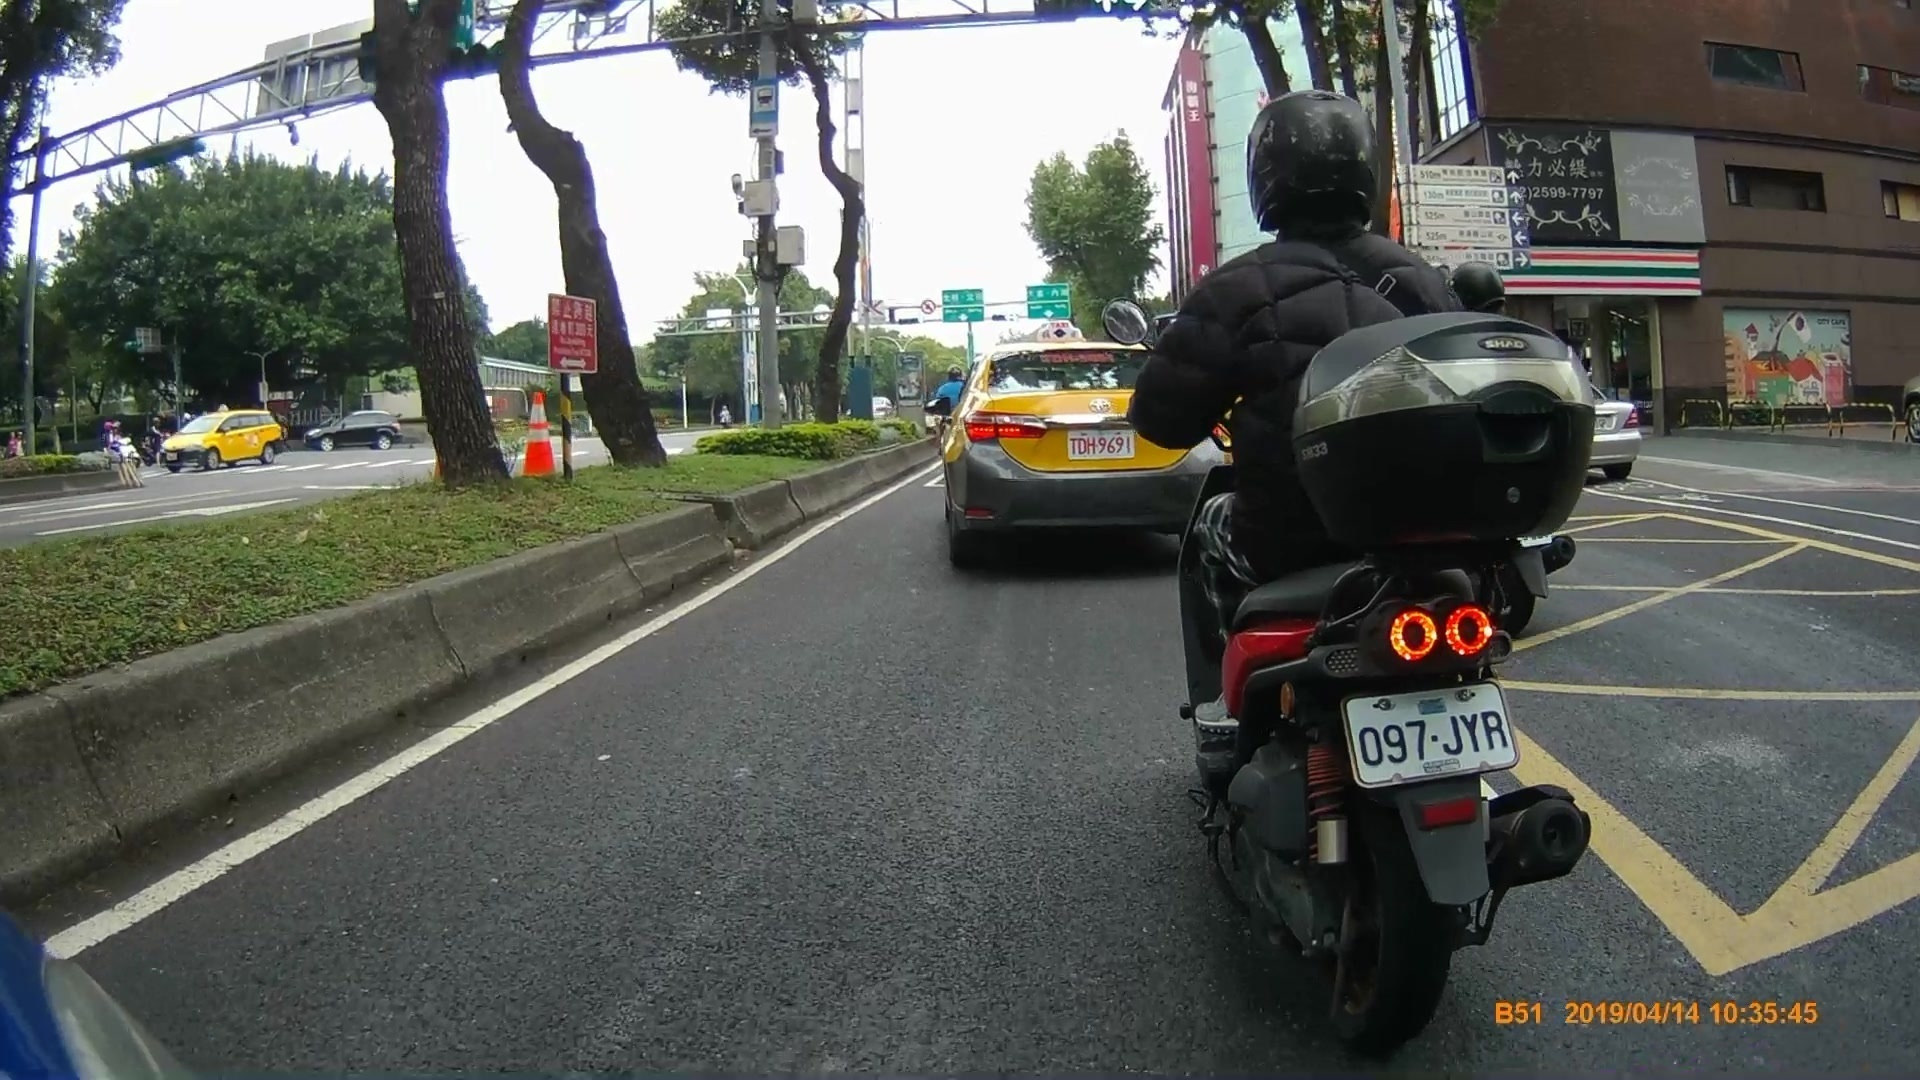License_plate: (1336, 680, 1522, 780), (1064, 430, 1135, 462)
